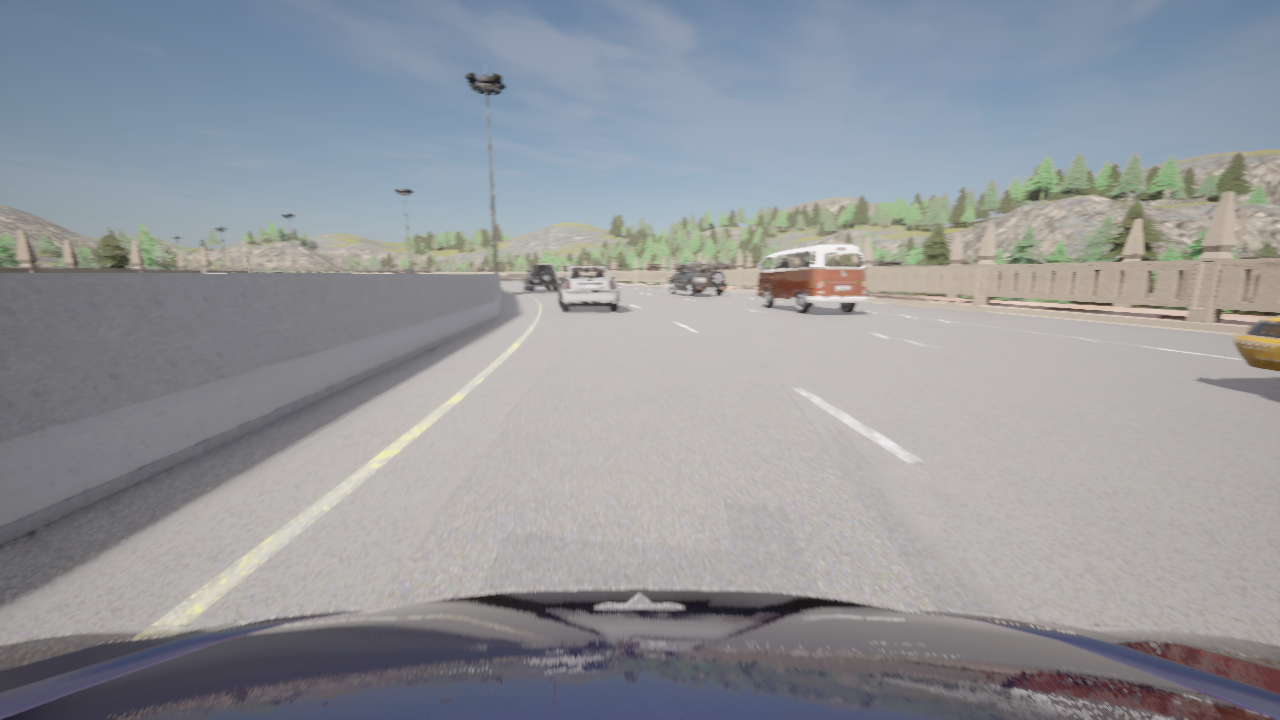cyclist: (0, 588, 1279, 719), (756, 244, 868, 313), (558, 266, 619, 312), (1233, 316, 1279, 371), (668, 262, 727, 296), (524, 264, 557, 291)
pedestrian: (210, 264, 216, 269)
